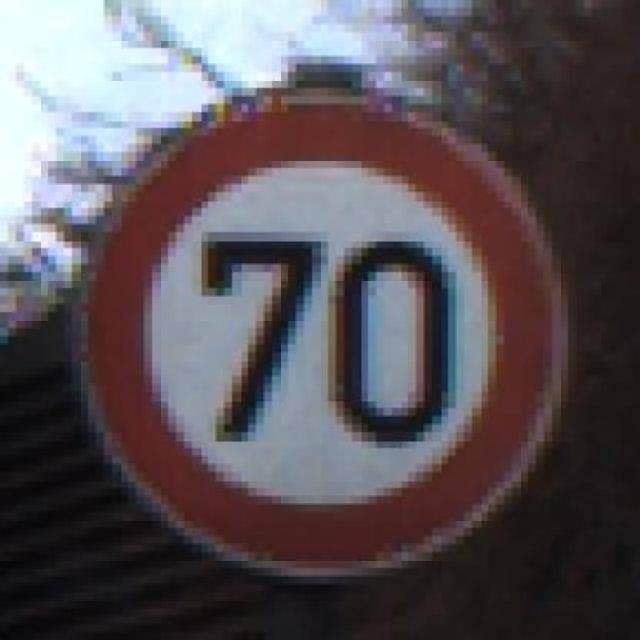forb_speed_over_70: (84, 97, 559, 571)
